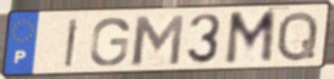3: (185, 12, 222, 66)
G: (87, 16, 132, 68)
I: (62, 17, 82, 69)
M: (222, 8, 279, 67), (130, 13, 187, 67)
Q: (274, 9, 321, 64)
